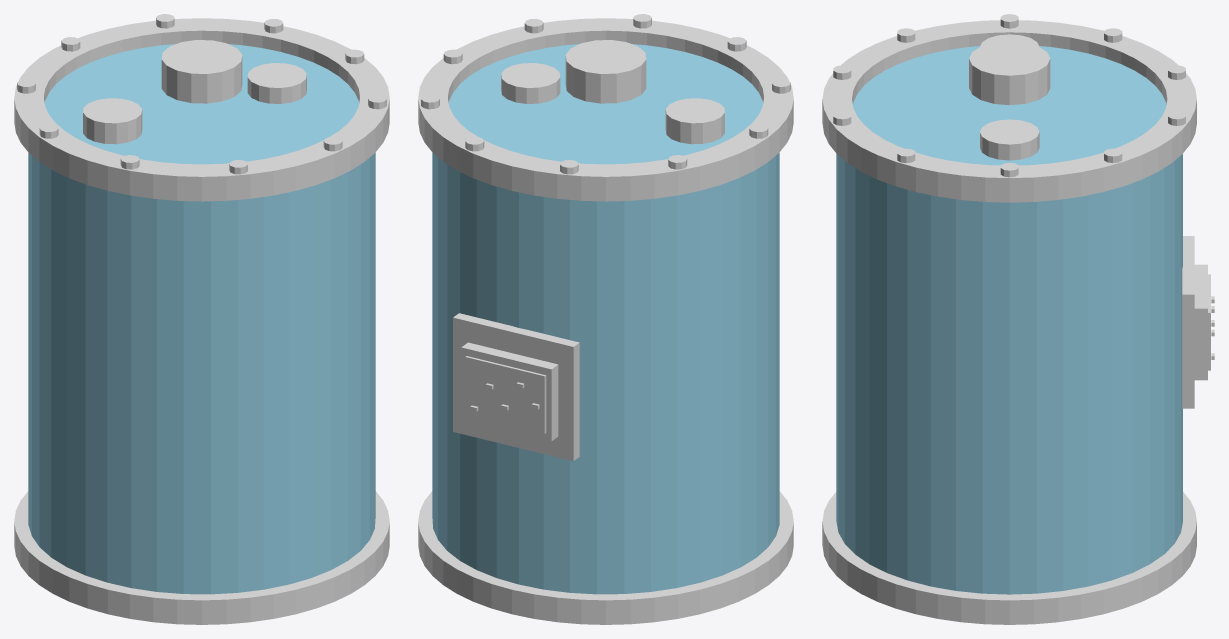
Rendered from L76_51_WasteElectrolyteCollectionModule_Fitted.fbx.
3 renders of one model, left to right at view 1: azimuth 30°, elevation 25°; view 2: azimuth 150°, elevation 25°; view 3: azimuth 270°, elevation 25°, orthographic.
Visible parts, largest first — view 1: L76_WasteElectrolyteCollectionModule_Static__glass, L76_WasteElectrolyteCollectionModule_Static__tint47657C, L76_WasteElectrolyteCollectionModule_Static__tintC2D0D6; view 2: L76_WasteElectrolyteCollectionModule_Static__glass, L76_WasteElectrolyteCollectionModule_Static__tint47657C, L76_WasteElectrolyteCollectionModule_Static__tint1D303F, L76_WasteElectrolyteCollectionModule_Static__tintFDB344, L76_WasteElectrolyteCollectionModule_Static__tintC2D0D6; view 3: L76_WasteElectrolyteCollectionModule_Static__glass, L76_WasteElectrolyteCollectionModule_Static__tint47657C, L76_WasteElectrolyteCollectionModule_Static__tint1D303F, L76_WasteElectrolyteCollectionModule_Static__tintC2D0D6.
Boxes of the visible parts, box(x1,y1,x2,y2) form: L76_WasteElectrolyteCollectionModule_Static__glass: box(28, 44, 375, 594); L76_WasteElectrolyteCollectionModule_Static__tint47657C: box(14, 18, 389, 624); L76_WasteElectrolyteCollectionModule_Static__tintC2D0D6: box(17, 14, 386, 174); L76_WasteElectrolyteCollectionModule_Static__glass: box(432, 44, 779, 594); L76_WasteElectrolyteCollectionModule_Static__tint47657C: box(418, 18, 793, 624); L76_WasteElectrolyteCollectionModule_Static__tint1D303F: box(453, 313, 579, 461); L76_WasteElectrolyteCollectionModule_Static__tintFDB344: box(465, 356, 546, 433); L76_WasteElectrolyteCollectionModule_Static__tintC2D0D6: box(421, 14, 790, 174); L76_WasteElectrolyteCollectionModule_Static__glass: box(836, 46, 1182, 594); L76_WasteElectrolyteCollectionModule_Static__tint47657C: box(822, 20, 1196, 624); L76_WasteElectrolyteCollectionModule_Static__tint1D303F: box(1182, 236, 1207, 408); L76_WasteElectrolyteCollectionModule_Static__tintC2D0D6: box(833, 14, 1185, 177).
Size of the model in its own units: 13.27 by 19.05 by 13.89.
